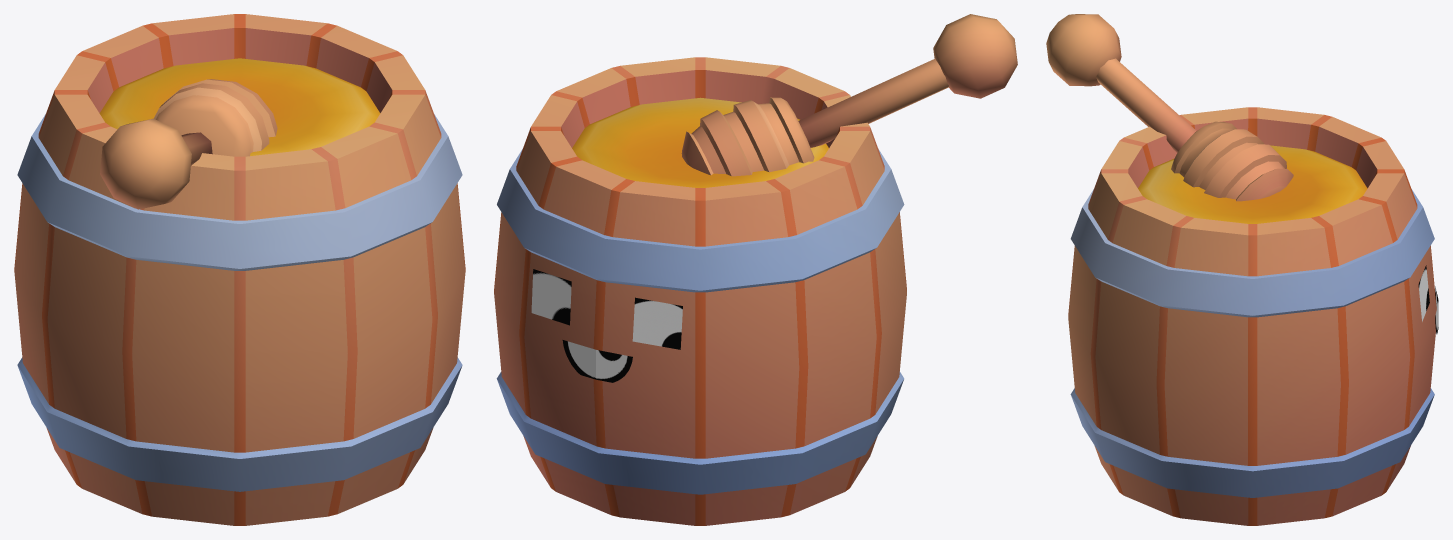
The model's file is honey_barrel.fbx.
The picture shows the model from 3 angles, left to right: view 1: azimuth 30°, elevation 25°; view 2: azimuth 150°, elevation 25°; view 3: azimuth 270°, elevation 25°; orthographic projection. The views are drawn at different scales.
Visible parts, largest first — view 1: honey_barrel; view 2: honey_barrel; view 3: honey_barrel.
Boxes of the visible parts, x1,y1,x2,y2 form: honey_barrel: [14, 14, 465, 525]; honey_barrel: [494, 14, 1017, 525]; honey_barrel: [1046, 14, 1438, 525].
Size of the model in its own units: 167 by 166 by 160.
